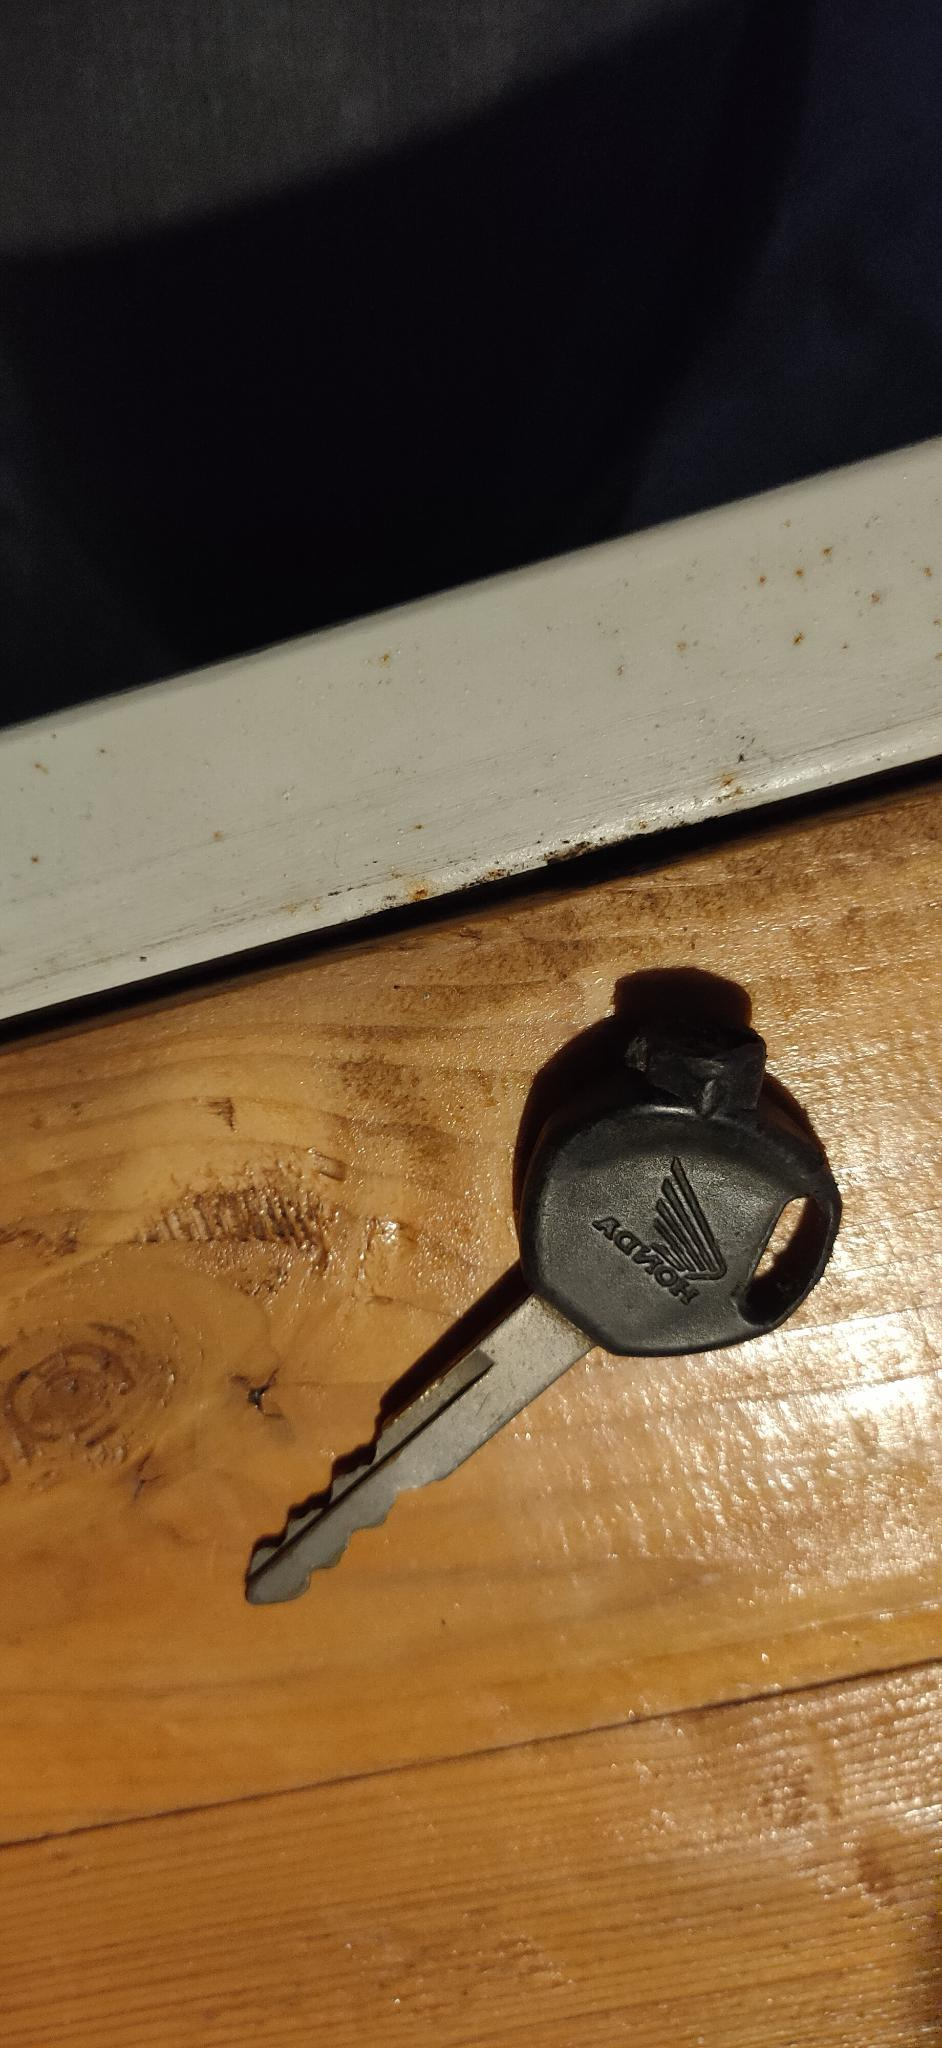keys: (233, 974, 856, 1624)
